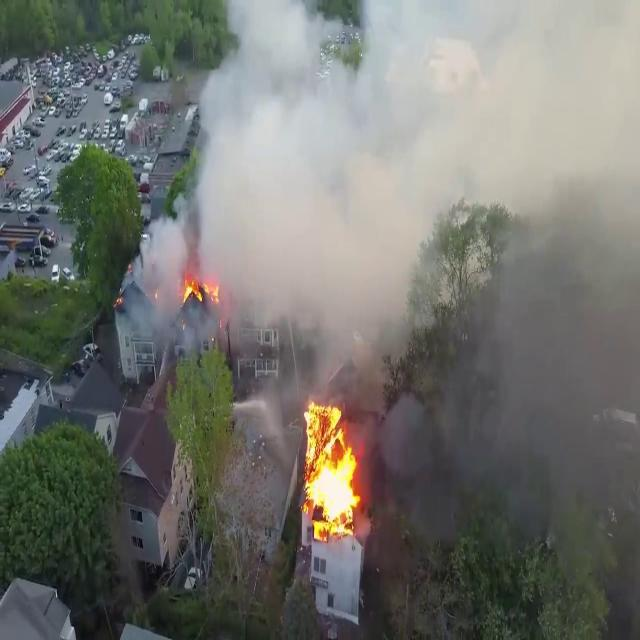Fire: (298, 395, 364, 537), (180, 269, 220, 311)
Smoke: (427, 16, 640, 634), (141, 0, 419, 381)
